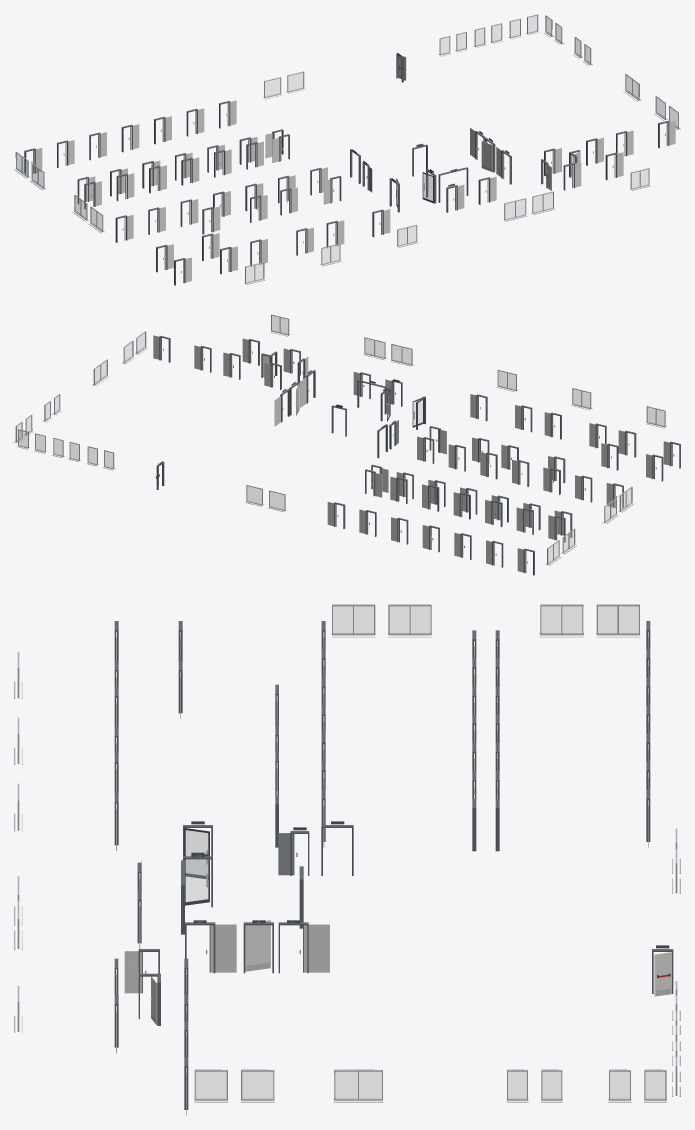
Rendered from 26_n2_puertas.glb.
3 views of the same model, one above another, from view 1: azimuth 30°, elevation 25°; view 2: azimuth 150°, elevation 25°; view 3: azimuth 270°, elevation 25° (orthographic). The views are drawn at different scales.
Parts seen in each view (by area): view 1: Puerta N2 · 53, Puerta N2 · 44, Ventana N2 · 84, Ventana N2 · 85; view 2: Ventana N2 · 84, Ventana N2 · 85; view 3: Ventana N2 · 72, Puerta N2 · 54, Puerta N2 · 52, Ventana N2 · 66, Ventana N2 · 64, Ventana N2 · 65, Ventana N2 · 63, Puerta N2 · 53, Puerta N2 · 44, Puerta N2 · 45, Ventana N2 · 71, Ventana N2 · 70 (+5 smaller).
Boxes of the visible parts, x1,y1,x2,y2 form: Puerta N2 · 53: [481, 138, 495, 172]; Puerta N2 · 44: [422, 169, 436, 203]; Ventana N2 · 84: [503, 198, 527, 221]; Ventana N2 · 85: [531, 191, 554, 214]; Ventana N2 · 84: [390, 344, 413, 366]; Ventana N2 · 85: [363, 337, 386, 359]; Ventana N2 · 72: [333, 1069, 383, 1102]; Puerta N2 · 54: [185, 922, 236, 973]; Puerta N2 · 52: [278, 922, 329, 973]; Ventana N2 · 66: [539, 604, 583, 637]; Ventana N2 · 64: [331, 604, 375, 637]; Ventana N2 · 65: [596, 604, 640, 637]; Ventana N2 · 63: [388, 604, 431, 637]; Puerta N2 · 53: [243, 920, 273, 973]; Puerta N2 · 44: [183, 854, 212, 907]; Puerta N2 · 45: [183, 825, 212, 878]; Ventana N2 · 71: [194, 1069, 228, 1102]; Ventana N2 · 70: [240, 1069, 274, 1102].
Bounding box in the file's own units: 50.11 × 2.65 × 30.11.
Materials: 12 (1 with a texture image).
